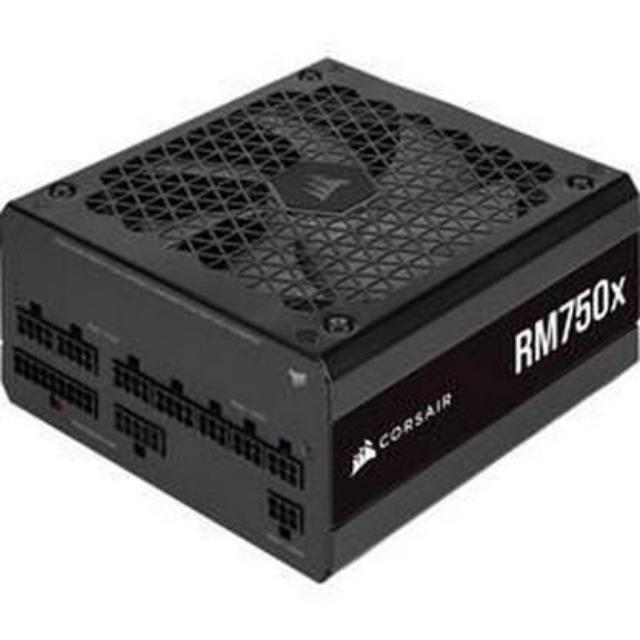PSU: (0, 52, 640, 592)
